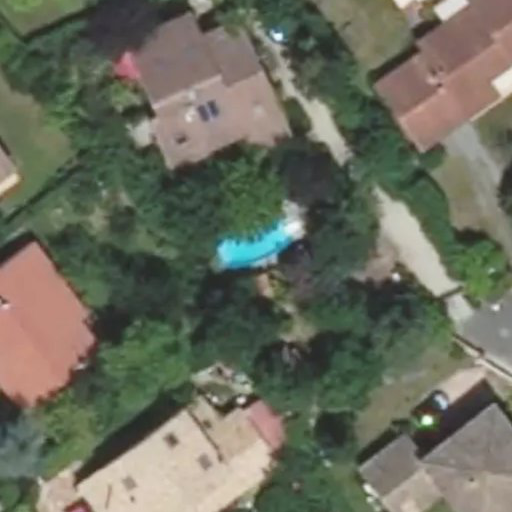pool: (213, 240, 298, 244)
